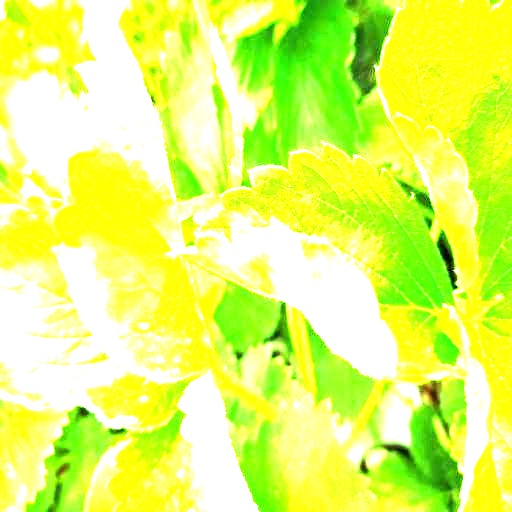Powdery Mildew Leaf: (171, 141, 472, 384), (50, 0, 224, 383), (0, 189, 198, 430), (107, 368, 258, 511), (439, 298, 511, 511)
